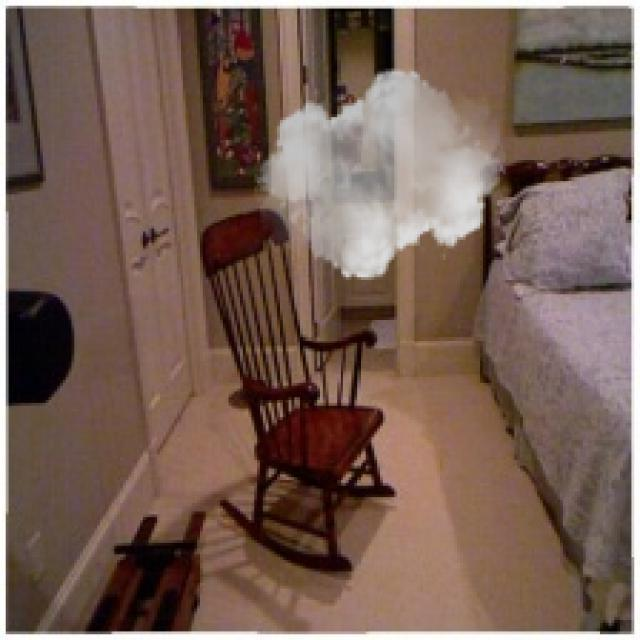Smoke: (254, 60, 506, 289)
